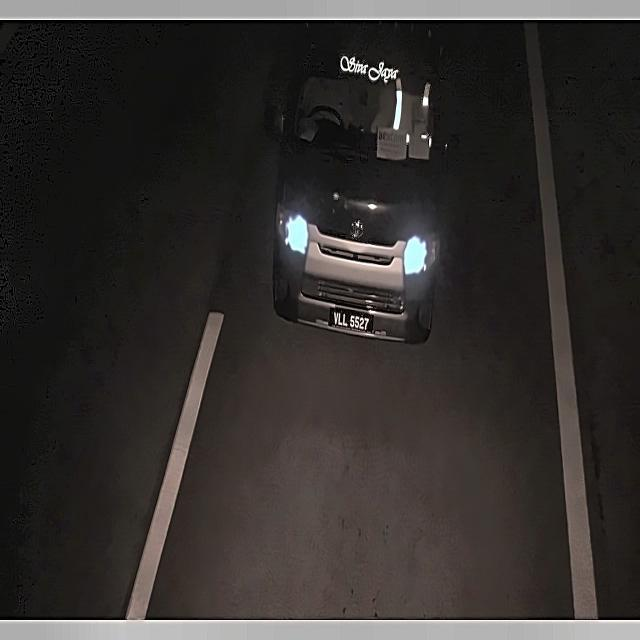car: (326, 300, 374, 343)
